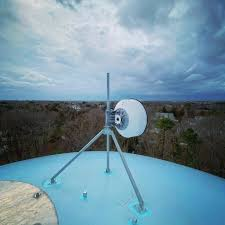ba: (102, 86, 154, 145)
